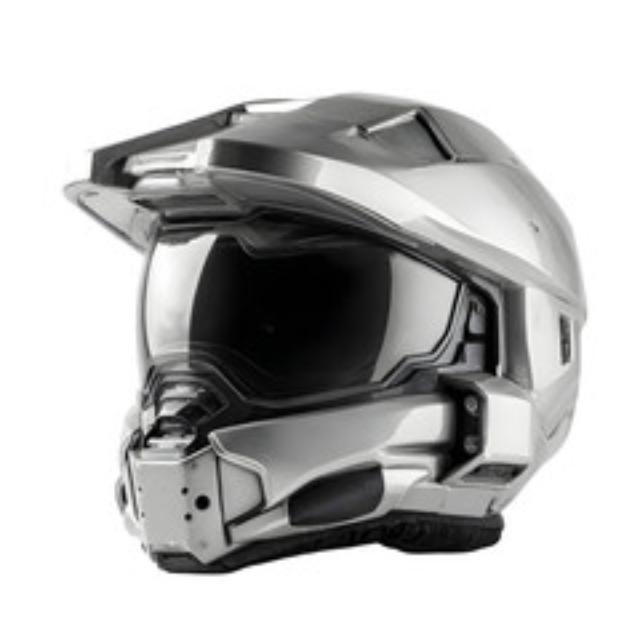motorcycle-helmets: (62, 93, 586, 575)
